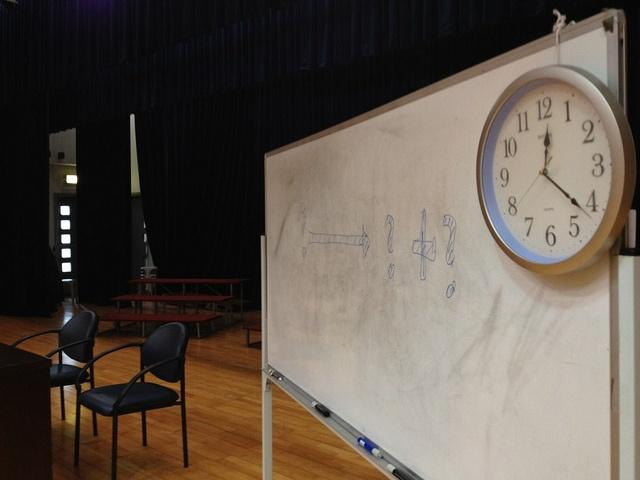Kursi: (73, 320, 188, 479), (50, 307, 97, 435)
Whiteboard: (264, 8, 627, 479)
